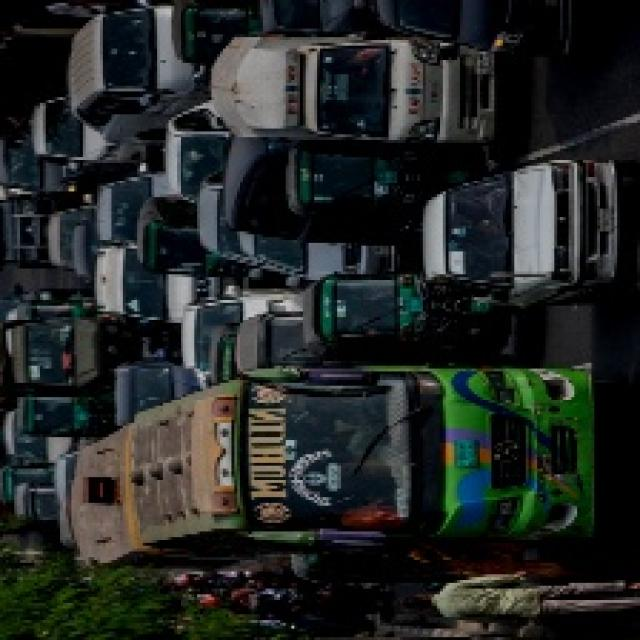car: (421, 175, 630, 307), (361, 1, 610, 59), (88, 241, 222, 328), (33, 97, 149, 167), (91, 176, 188, 242)
